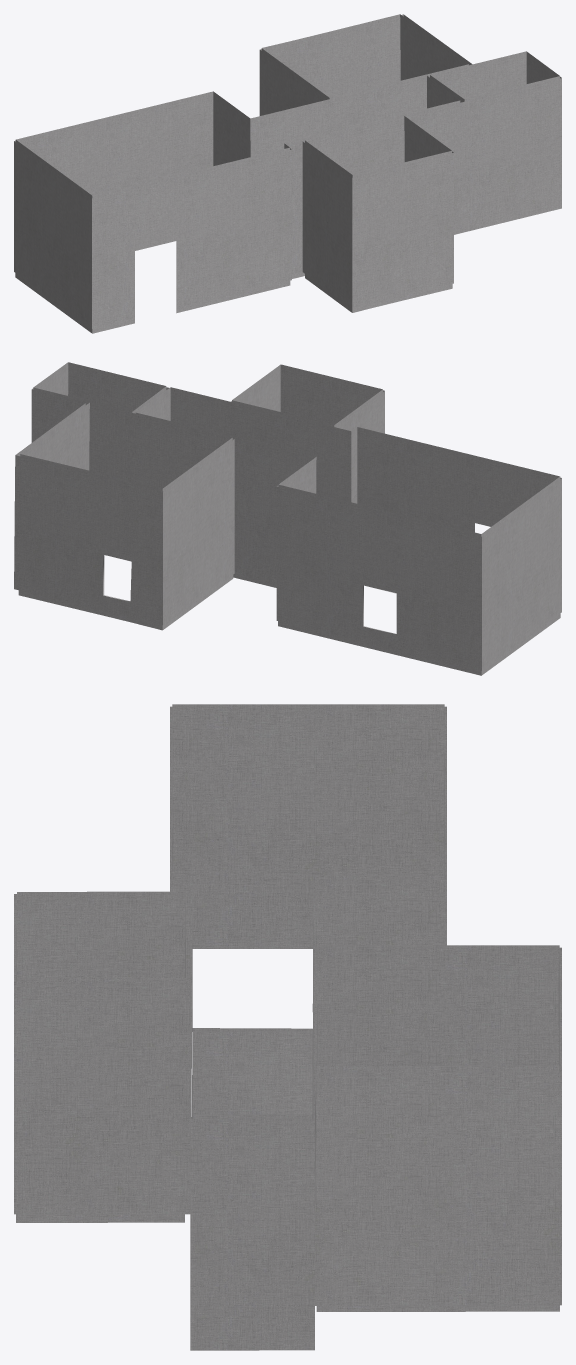
The model's file is Layoutfin (1).fbx.
3 views of the same model, one above another, from view 1: azimuth 30°, elevation 25°; view 2: azimuth 150°, elevation 25°; view 3: azimuth 270°, elevation 25° (orthographic). The views are drawn at different scales.
Visible parts, largest first — view 1: Plane007; view 2: Plane007; view 3: Plane007.
Boxes of the visible parts, x1,y1,x2,y2 form: Plane007: (14, 14, 561, 333); Plane007: (14, 362, 561, 675); Plane007: (14, 704, 561, 1350).
Size of the model in its own units: 479 by 133 by 269.
